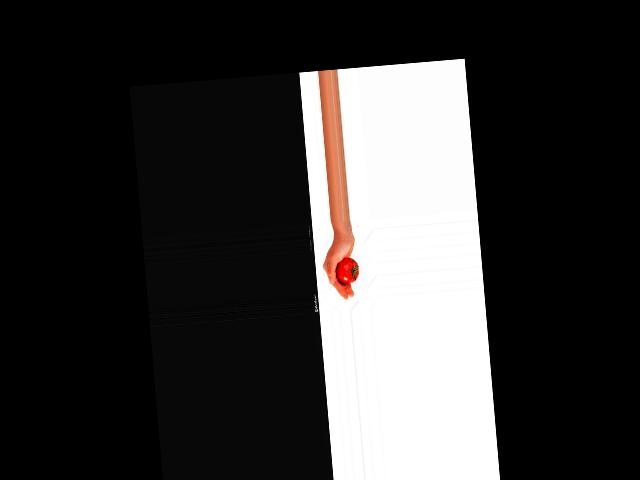tomato: (334, 256, 359, 283)
